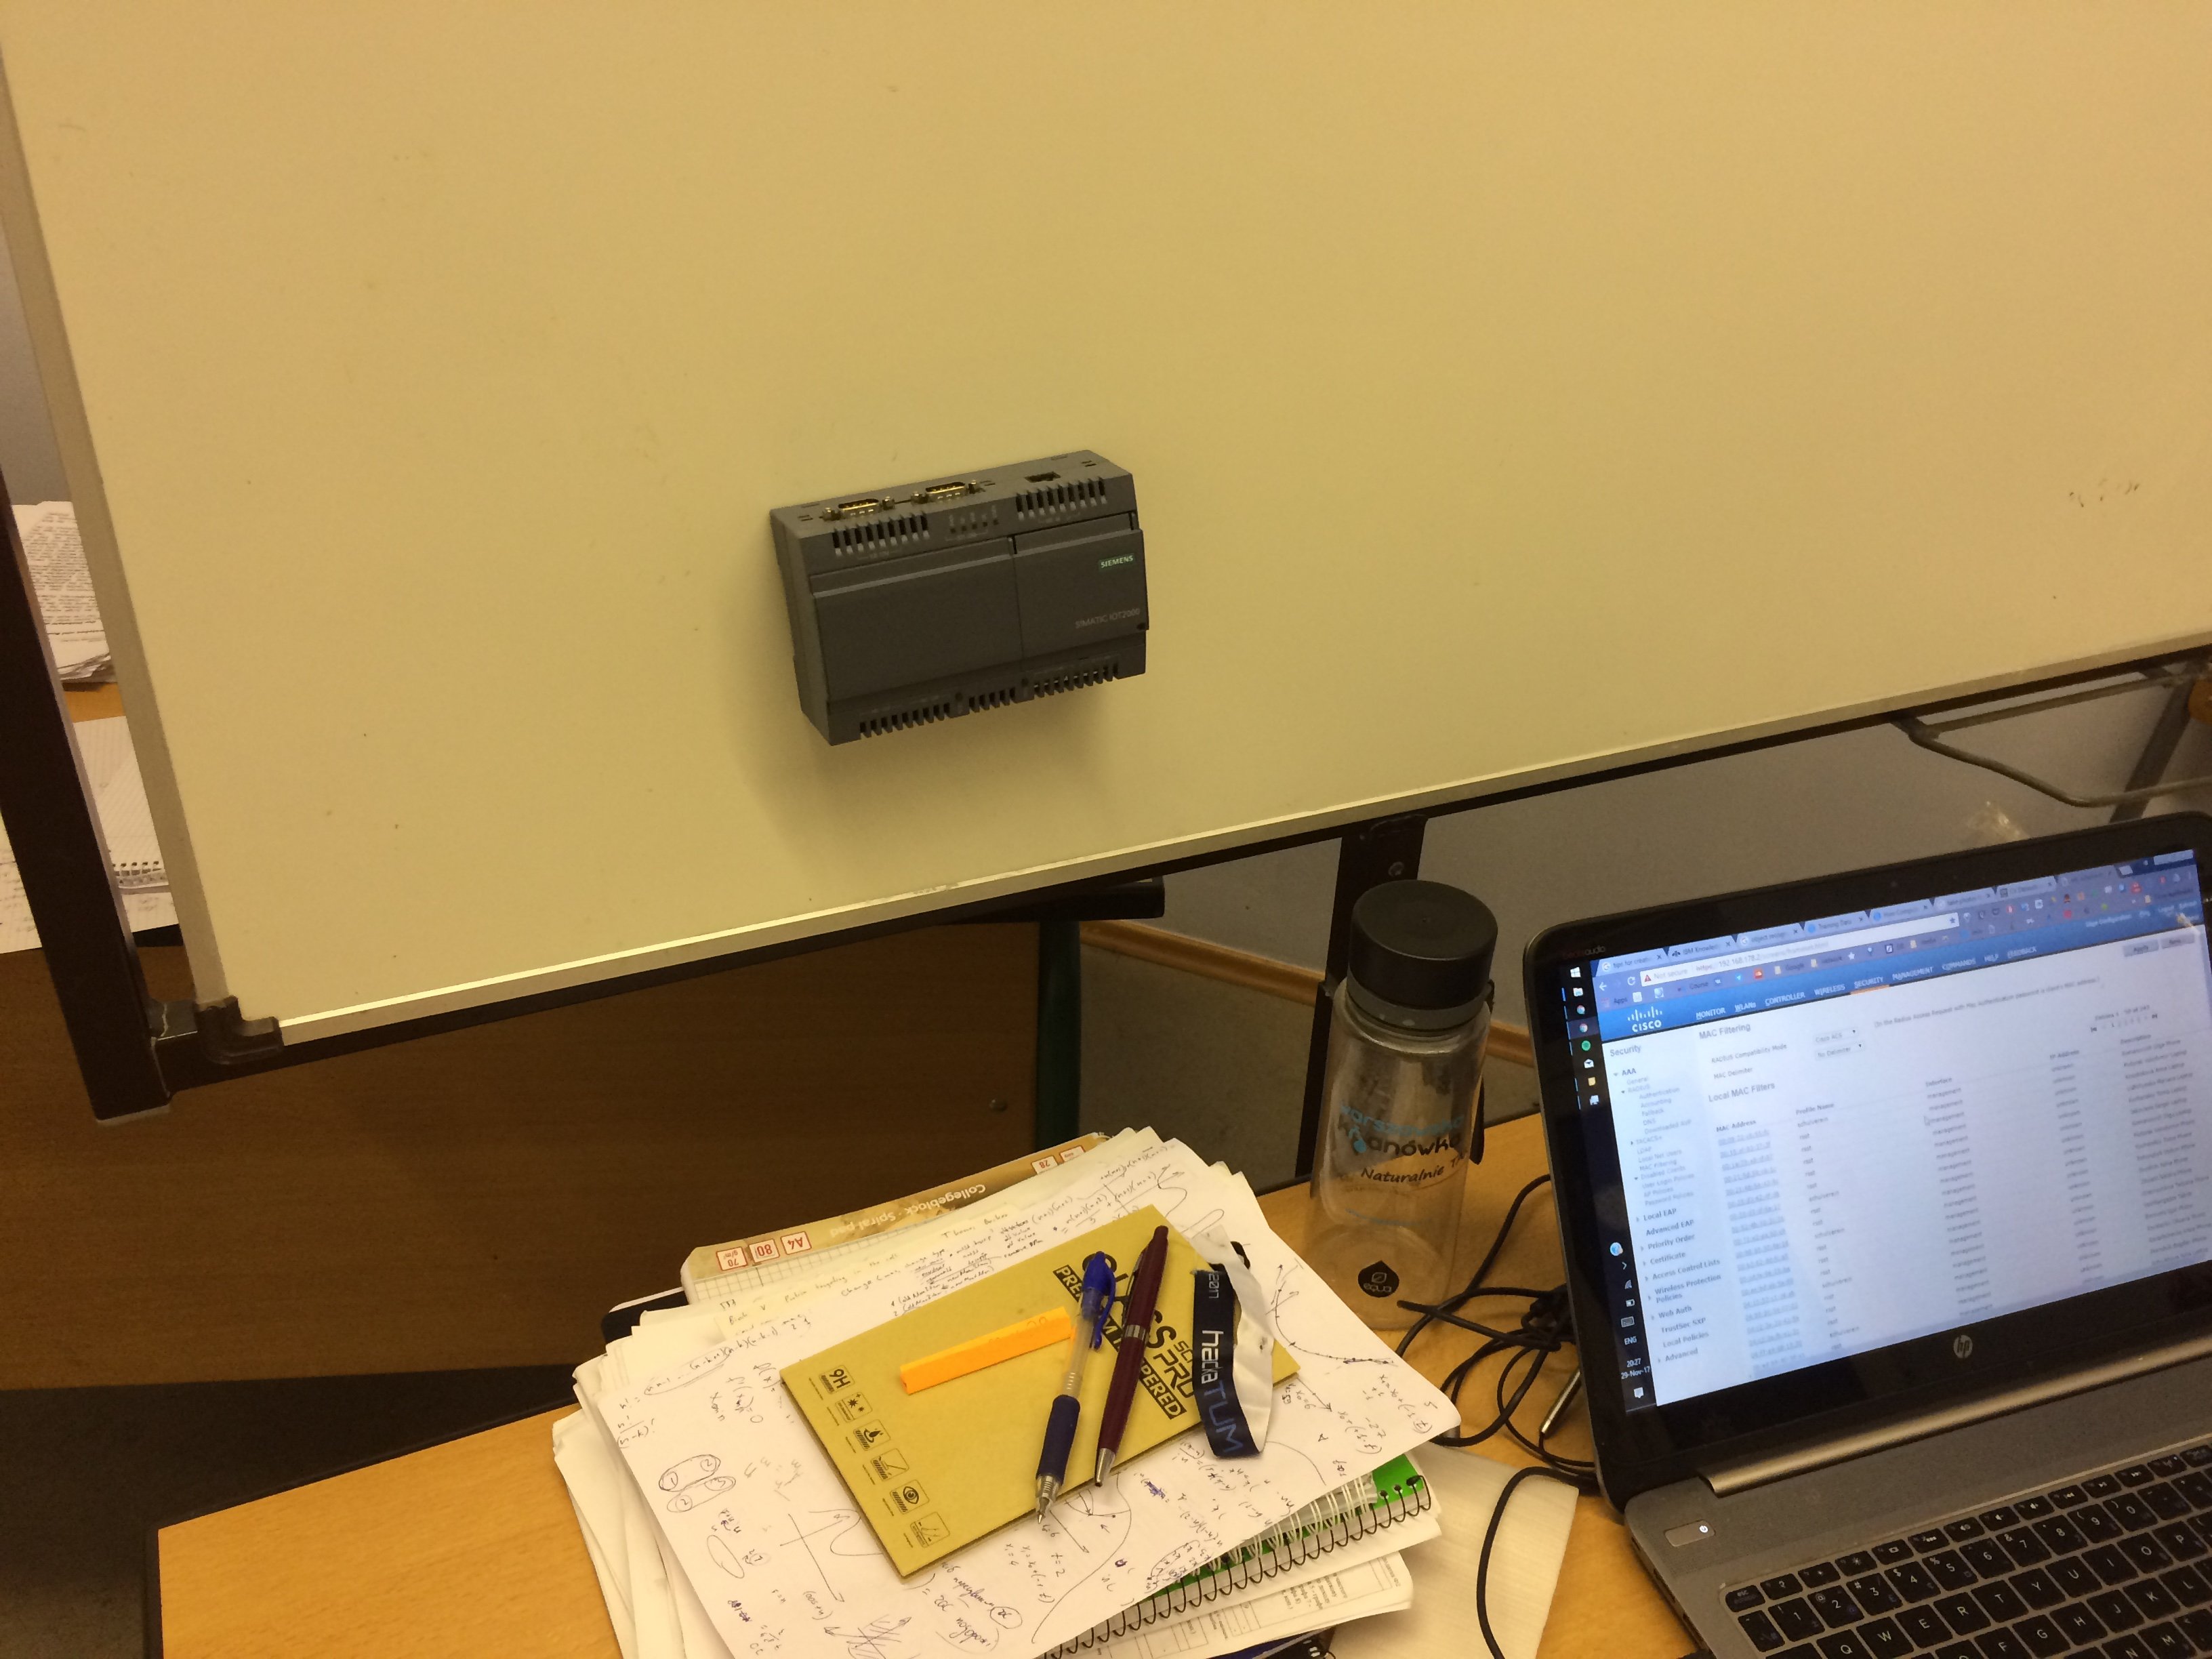iot2000: (765, 448, 1151, 753)
